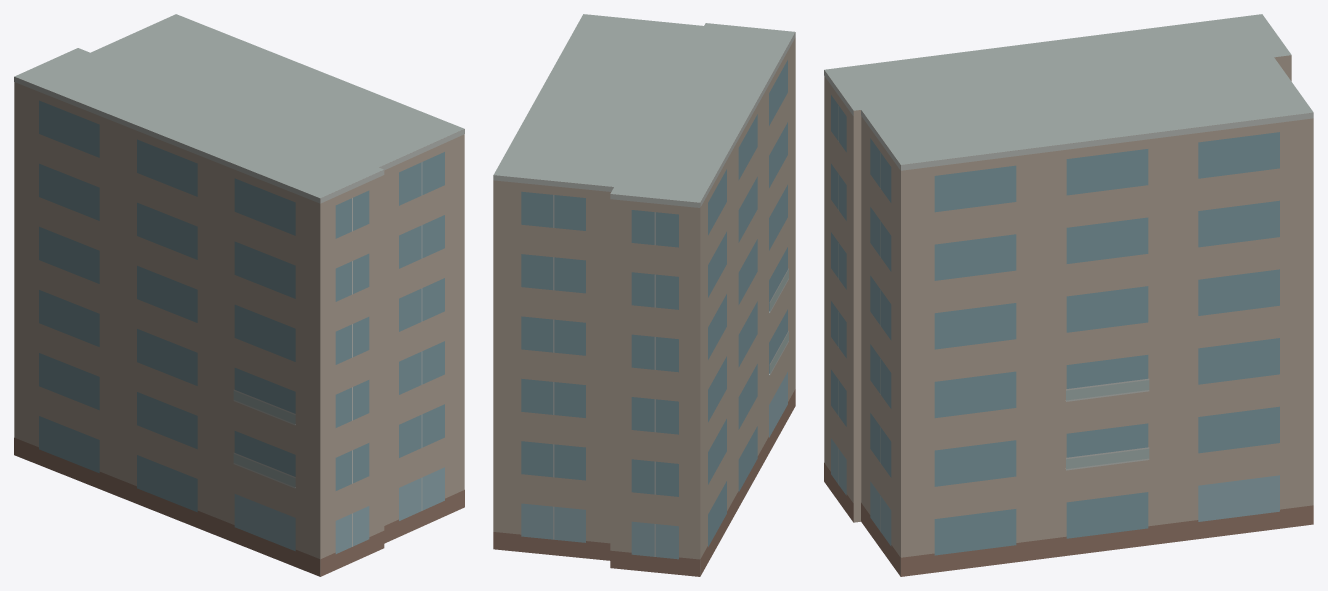
File: survey-upis-32995577.glb
3 views of the same model, side by side, from view 1: azimuth 30°, elevation 25°; view 2: azimuth 150°, elevation 25°; view 3: azimuth 270°, elevation 25° (orthographic). The views are drawn at different scales.
Parts seen in each view (by area): view 1: survey-upis-32995577.tmp; view 2: survey-upis-32995577.tmp; view 3: survey-upis-32995577.tmp.
Boxes of the visible parts, bbox=[...] form: survey-upis-32995577.tmp: bbox=[14, 14, 464, 576]; survey-upis-32995577.tmp: bbox=[493, 14, 795, 576]; survey-upis-32995577.tmp: bbox=[824, 14, 1313, 576].
Bounding box in the file's own units: 13.61 × 17.3 × 18.65.
